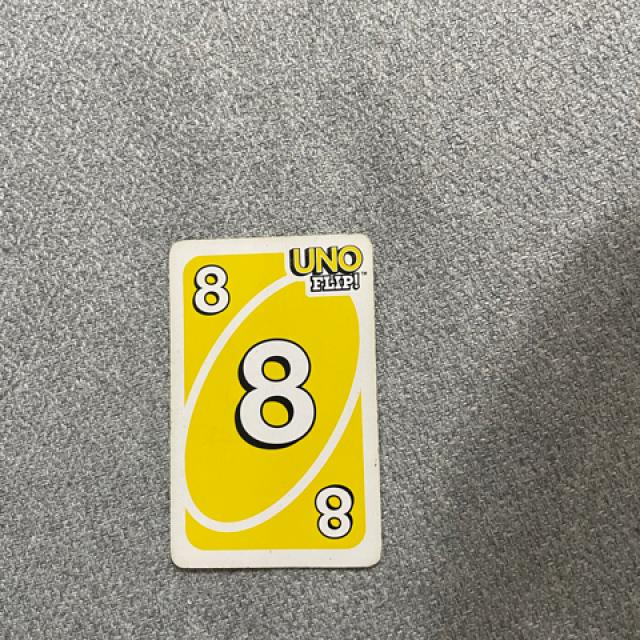lyellow-8: (179, 251, 246, 333)
